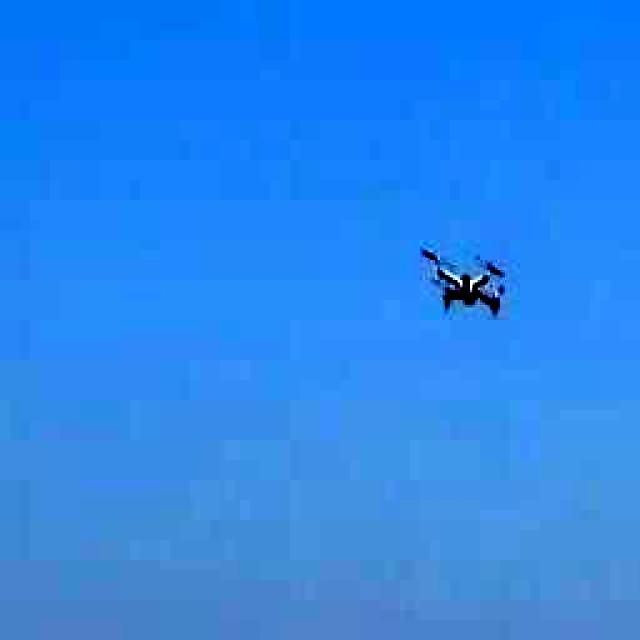bird: (404, 221, 524, 339)
